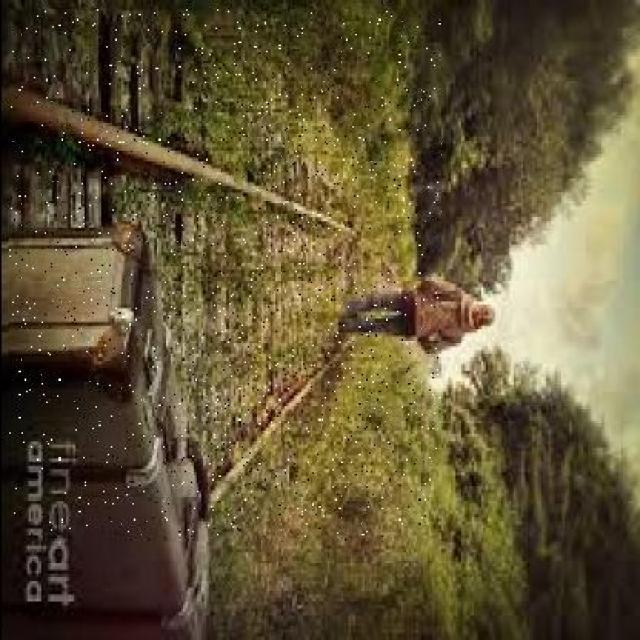rail: (9, 11, 440, 543)
